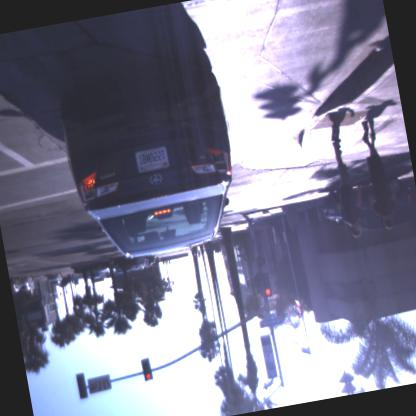trafficlight: (135, 352, 156, 388), (256, 262, 274, 302)
